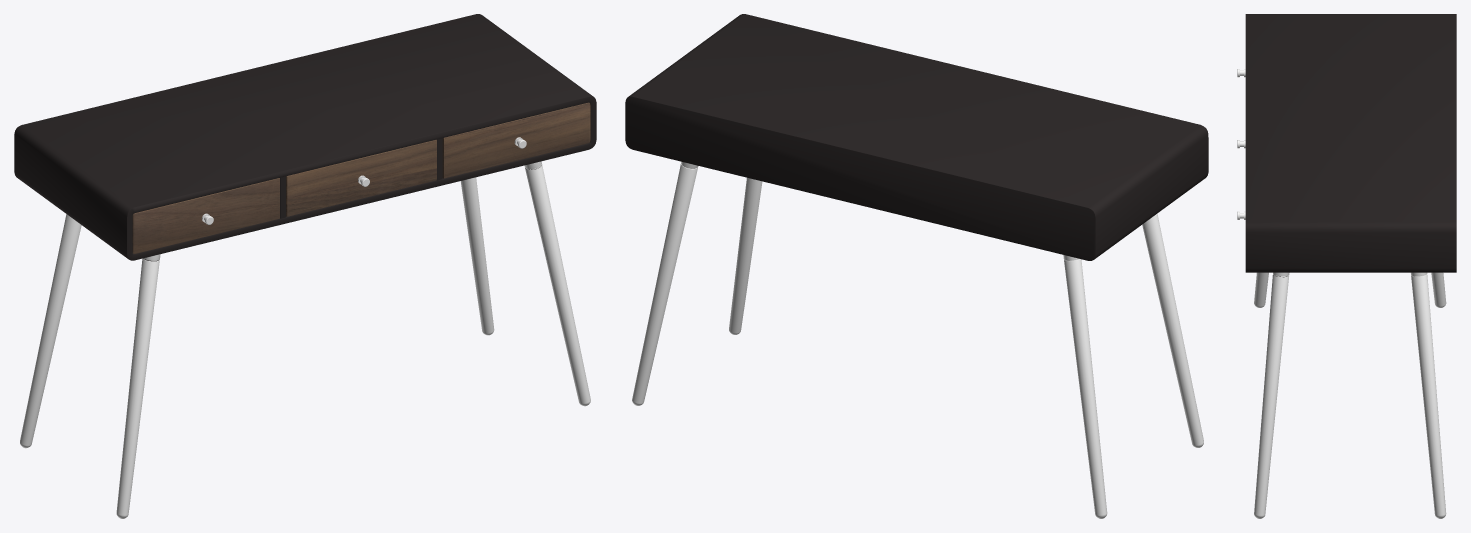
3 renders of one model, left to right at view 1: azimuth 30°, elevation 25°; view 2: azimuth 150°, elevation 25°; view 3: azimuth 270°, elevation 25°, orthographic. The views are drawn at different scales.
Parts seen in each view (by area): view 1: Box001_03 - Default_0, Box001_Chrome_0, Object001_Material #2_0, Object002_Material #2_0, Shape001_Material #2_0; view 2: Box001_03 - Default_0, Box001_Chrome_0; view 3: Box001_03 - Default_0, Box001_Chrome_0.
Boxes of the visible parts, x1,y1,x2,y2 form: Box001_03 - Default_0: (14,14,596,261); Box001_Chrome_0: (20,164,590,518); Object001_Material #2_0: (286,139,436,216); Object002_Material #2_0: (442,102,590,178); Shape001_Material #2_0: (132,178,279,253); Box001_03 - Default_0: (625,14,1208,260); Box001_Chrome_0: (632,163,1203,518); Box001_03 - Default_0: (1245,14,1456,277); Box001_Chrome_0: (1254,272,1446,518).
Size of the model in its own units: 121 by 77.01 by 52.
Materials: 5 (1 with a texture image).
